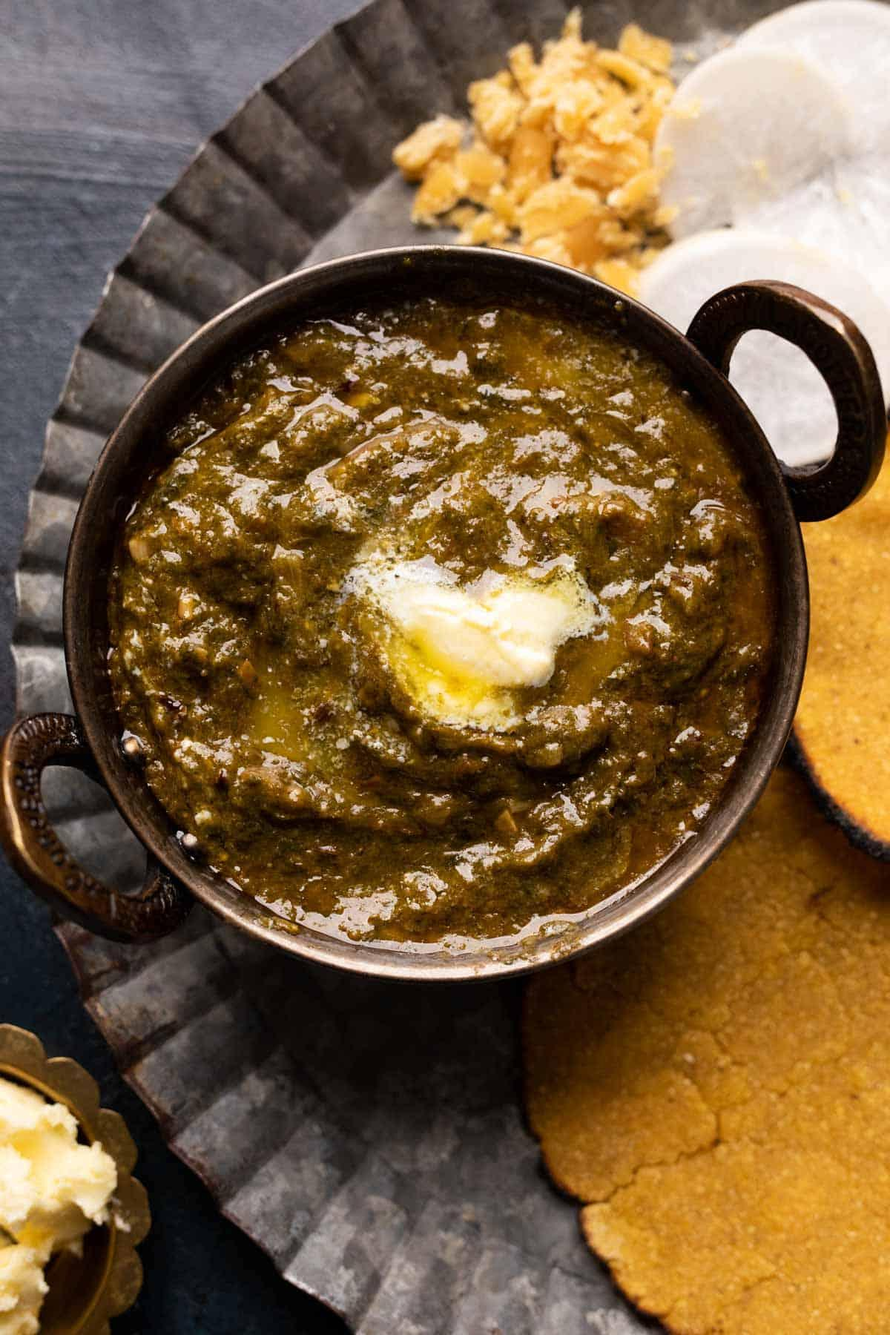saag: (104, 337, 783, 944)
